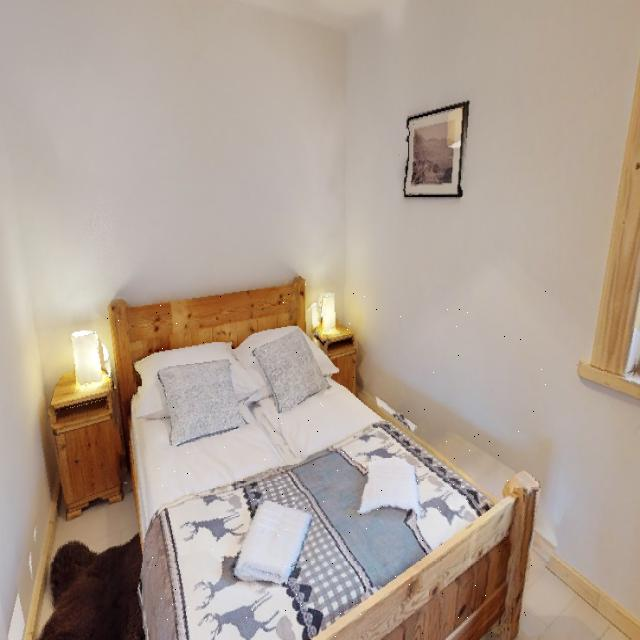bed: (102, 281, 547, 640)
